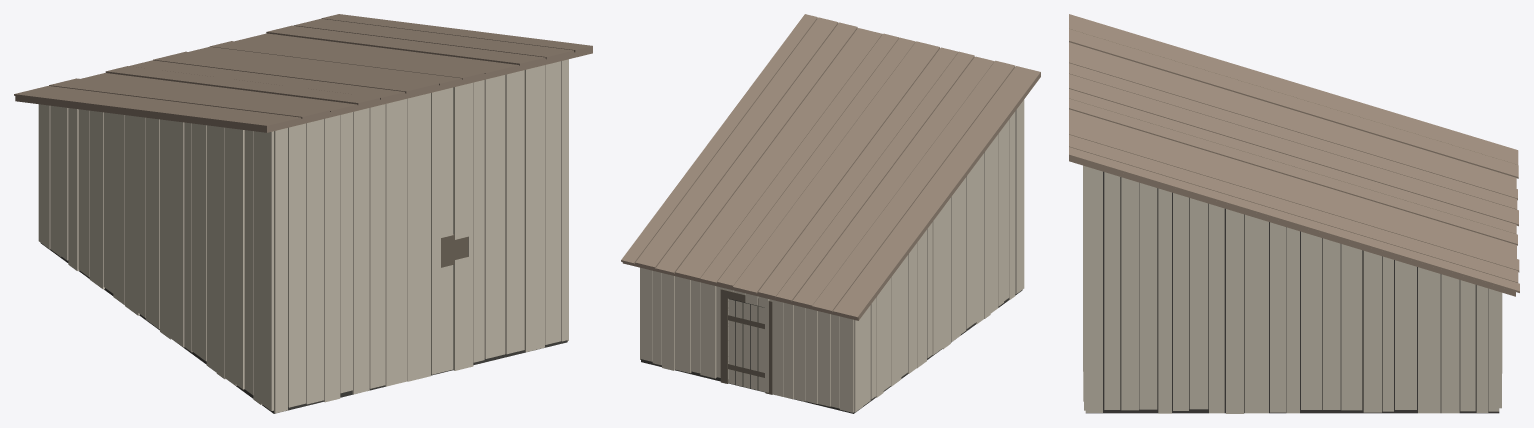
Rendered from recon_1835_west_041__inferred_1835.glb.
The picture shows the model from 3 angles, left to right: view 1: azimuth 30°, elevation 25°; view 2: azimuth 150°, elevation 25°; view 3: azimuth 270°, elevation 25°; orthographic projection. The views are drawn at different scales.
Parts seen in each view (by area): view 1: recon_1835_west_041__inferred_1835; view 2: recon_1835_west_041__inferred_1835; view 3: recon_1835_west_041__inferred_1835.
Part boxes in pixels (x1,y1,x2,y2): recon_1835_west_041__inferred_1835: [14, 14, 592, 413]; recon_1835_west_041__inferred_1835: [621, 14, 1040, 413]; recon_1835_west_041__inferred_1835: [1069, 14, 1519, 413].
Bounding box in the file's own units: 5.41 × 4.75 × 7.3.
